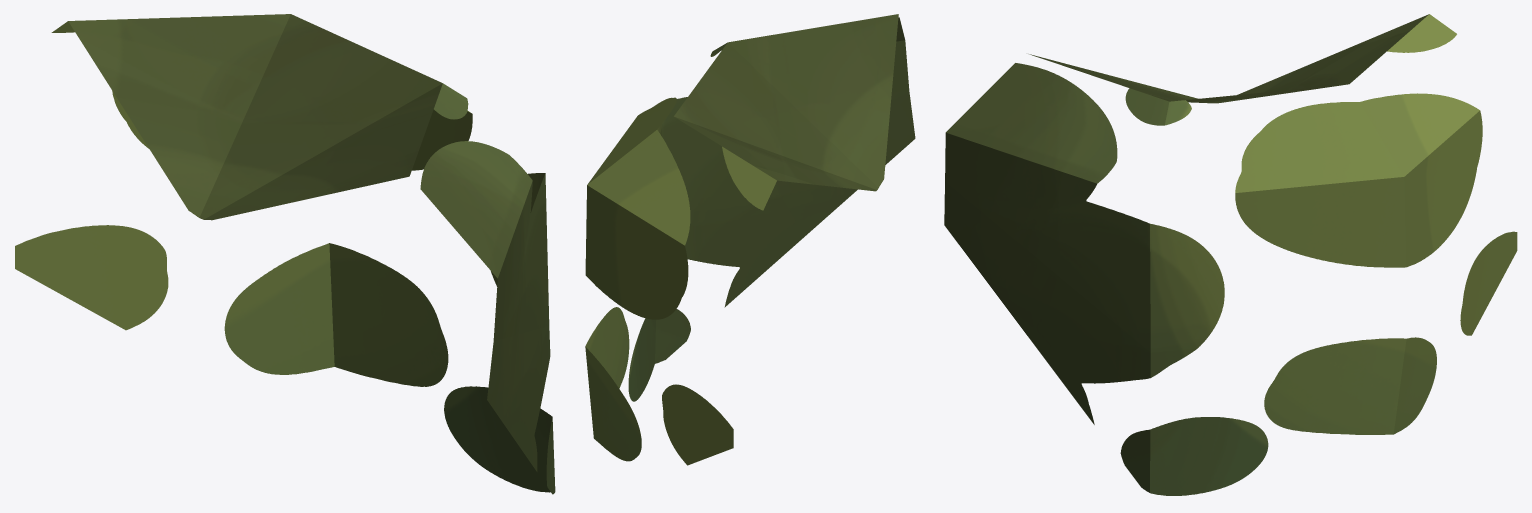
File: Plant  pot_ 1.fbx
The picture shows the model from 3 angles, left to right: view 1: azimuth 30°, elevation 25°; view 2: azimuth 150°, elevation 25°; view 3: azimuth 270°, elevation 25°; orthographic projection. The views are drawn at different scales.
Visible parts, largest first — view 1: Sphere.001; view 2: Sphere.001; view 3: Sphere.001.
Boxes of the visible parts, x1=… form: Sphere.001: x1=15, y1=14, x2=555, y2=494; Sphere.001: x1=585, y1=14, x2=915, y2=465; Sphere.001: x1=944, y1=14, x2=1517, y2=495.
Size of the model in its own units: 59.28 by 82.88 by 112.
